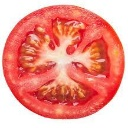tomato: (2, 6, 128, 120)
